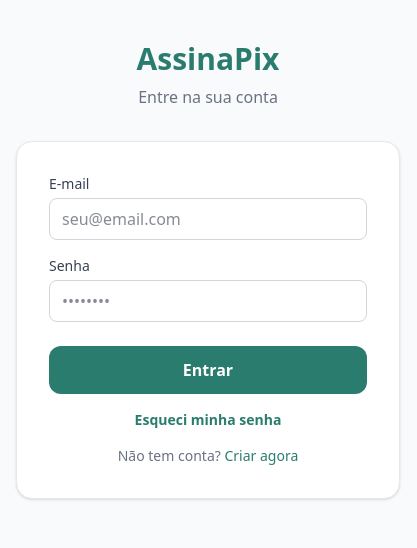
Test: LoginPage › shows generic error on unknown error
The width and height of the screenshot is (417, 548).
Type "user@test.com" into the field labelled "E-mail" at [208, 219], box [49,198,367,240]
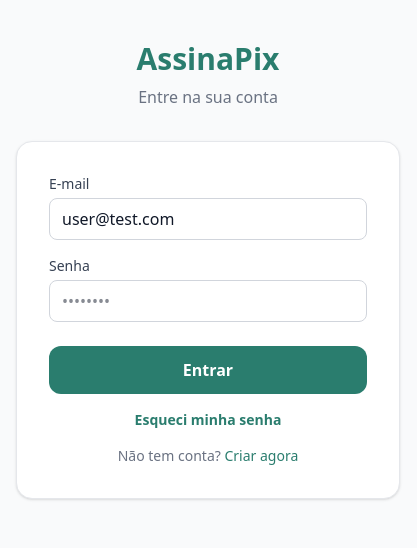
Type "password123" into the password field labelled "Senha" at [208, 301], box [49,280,367,322]
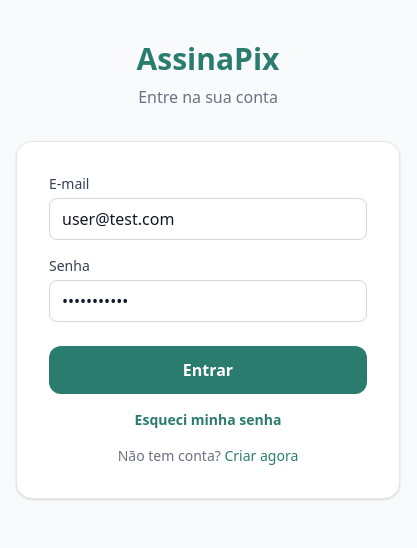
Click the button "Entrar" at [208, 370], box [49,346,367,394]
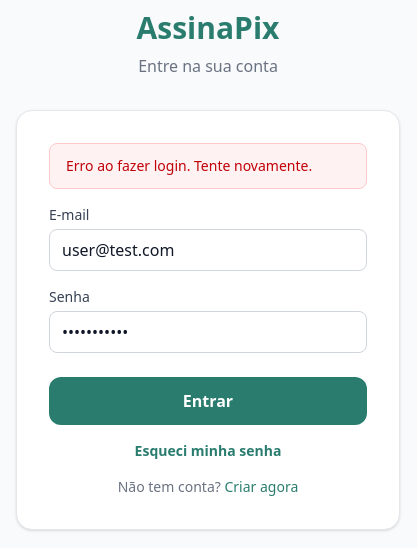
Result: the text "Erro ao fazer login. Tente novamente." is shown at [49,143,367,189]
